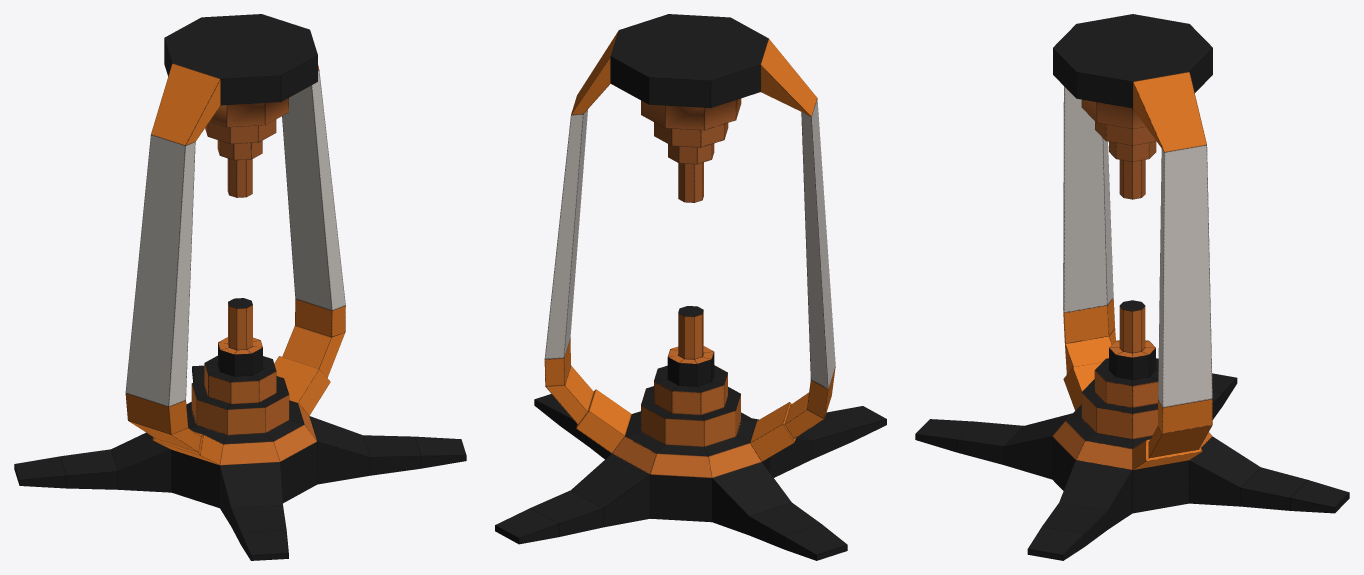
Rendered from Reactor.fbx.
3 views of the same model, side by side, from view 1: azimuth 30°, elevation 25°; view 2: azimuth 150°, elevation 25°; view 3: azimuth 270°, elevation 25° (orthographic). The views are drawn at different scales.
Visible parts, largest first — view 1: Reactor; view 2: Reactor; view 3: Reactor.
Part boxes in pixels (x1,y1,x2,y2): Reactor: (14, 14, 466, 560); Reactor: (495, 14, 886, 560); Reactor: (915, 14, 1349, 560).
Bounding box in the file's own units: 1263 × 1386 × 1263.
